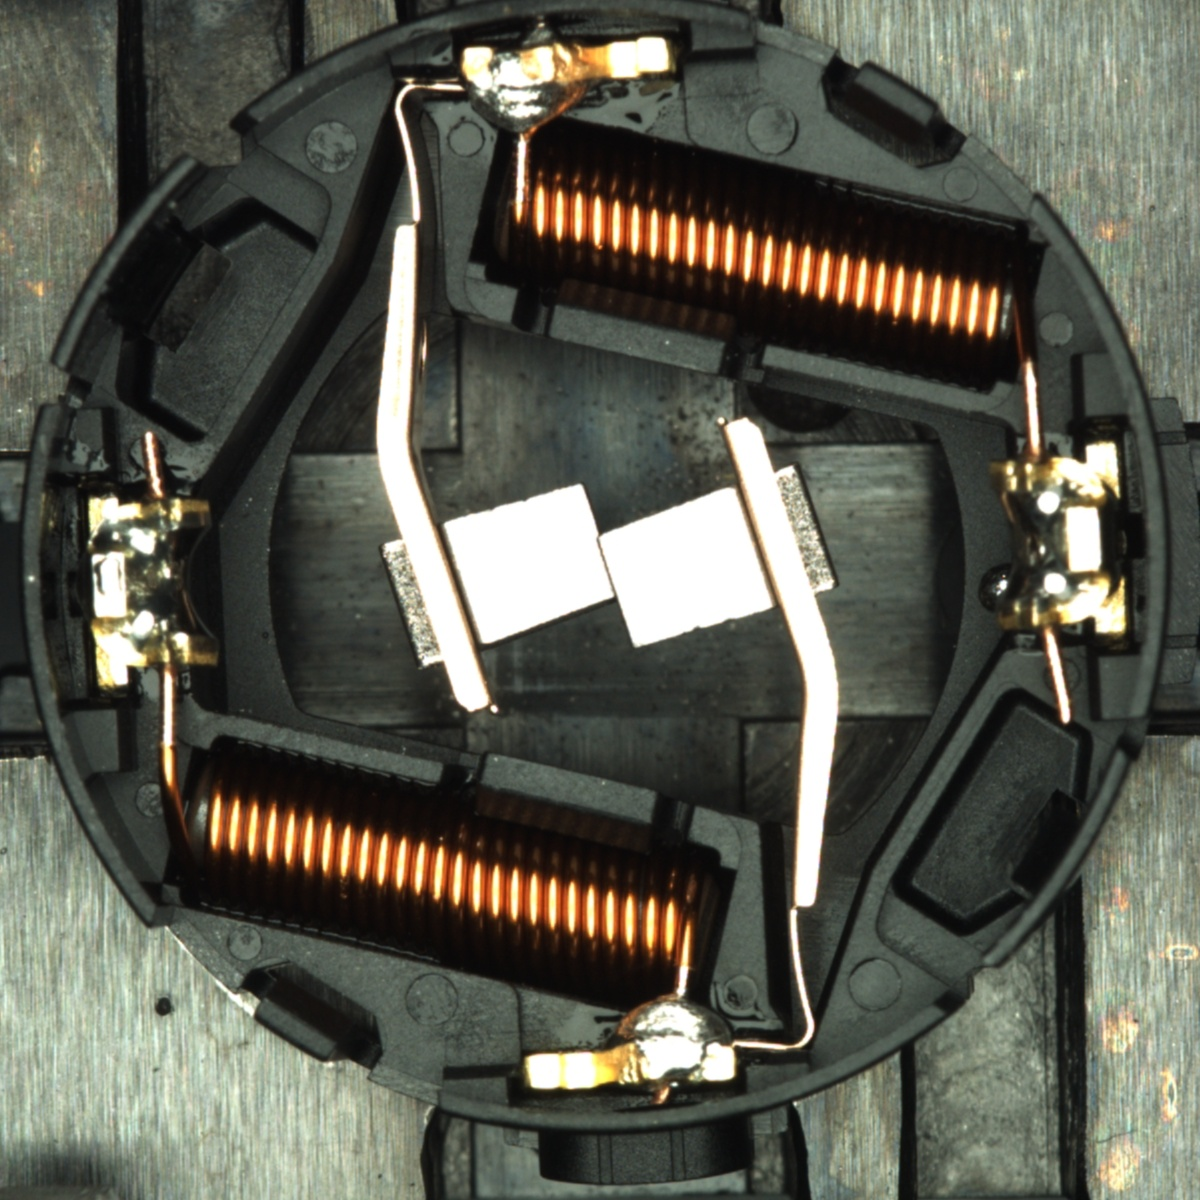1: (264, 4, 493, 229), (723, 902, 952, 1126)
2: (264, 902, 493, 1126), (723, 4, 952, 229)
3: (35, 229, 264, 454), (952, 678, 1181, 902)
4: (264, 229, 493, 454), (723, 678, 952, 902)
5: (493, 116, 723, 341), (493, 790, 723, 1014)
6: (723, 229, 952, 454), (264, 678, 493, 902)
7: (952, 229, 1181, 454), (35, 678, 264, 902)
cacbon: (398, 473, 818, 658)
chau_dien: (84, 485, 227, 689), (991, 438, 1129, 642)
hat_chi: (982, 568, 1016, 610)
tay_choi: (460, 38, 681, 141), (523, 992, 740, 1090)
vun_chi: (979, 565, 1019, 613)
